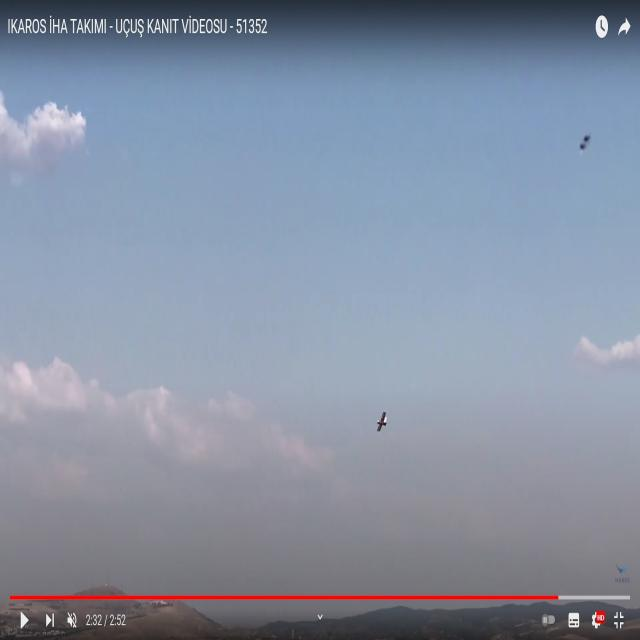iha: (380, 410, 383, 432)
